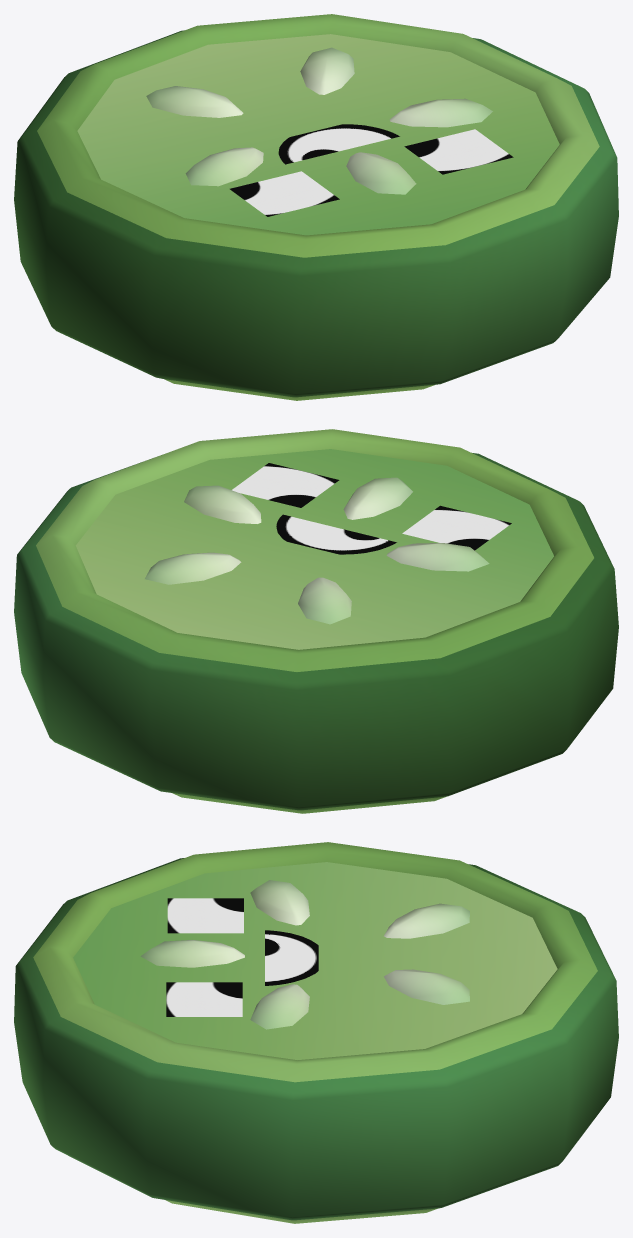
Rendered from cucumber_slice_smile.fbx.
The picture shows the model from 3 angles, top to bottom: view 1: azimuth 30°, elevation 25°; view 2: azimuth 150°, elevation 25°; view 3: azimuth 270°, elevation 25°; orthographic projection.
Visible parts, largest first — view 1: cucumber; view 2: cucumber; view 3: cucumber.
Part boxes in pixels (x1=…): cucumber: x1=14, y1=14, x2=618, y2=400; cucumber: x1=14, y1=429, x2=618, y2=813; cucumber: x1=14, y1=842, x2=618, y2=1223.
Bounding box in the file's own units: 26.18 × 26.14 × 8.44.
